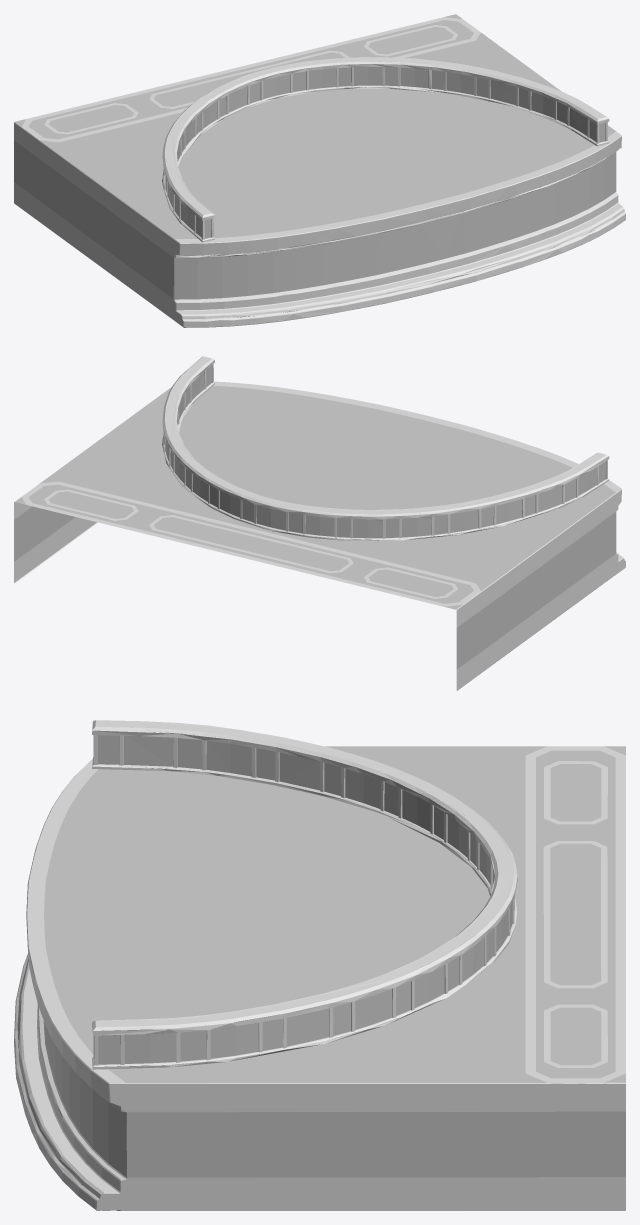
Rendered from AlcoveTrimHeights_01_Lod1.fbx.
The picture shows the model from 3 angles, top to bottom: view 1: azimuth 30°, elevation 25°; view 2: azimuth 150°, elevation 25°; view 3: azimuth 270°, elevation 25°; orthographic projection. The views are drawn at different scales.
Parts seen in each view (by area): view 1: S_Sunforged_AlcoveTrimHeights_01_Lod1.mo; view 2: S_Sunforged_AlcoveTrimHeights_01_Lod1.mo; view 3: S_Sunforged_AlcoveTrimHeights_01_Lod1.mo.
Part boxes in pixels (x1,y1,x2,y2): S_Sunforged_AlcoveTrimHeights_01_Lod1.mo: [14, 14, 625, 327]; S_Sunforged_AlcoveTrimHeights_01_Lod1.mo: [14, 356, 625, 690]; S_Sunforged_AlcoveTrimHeights_01_Lod1.mo: [14, 720, 625, 1210].
Bounding box in the file's own units: 655 × 153 × 502.
